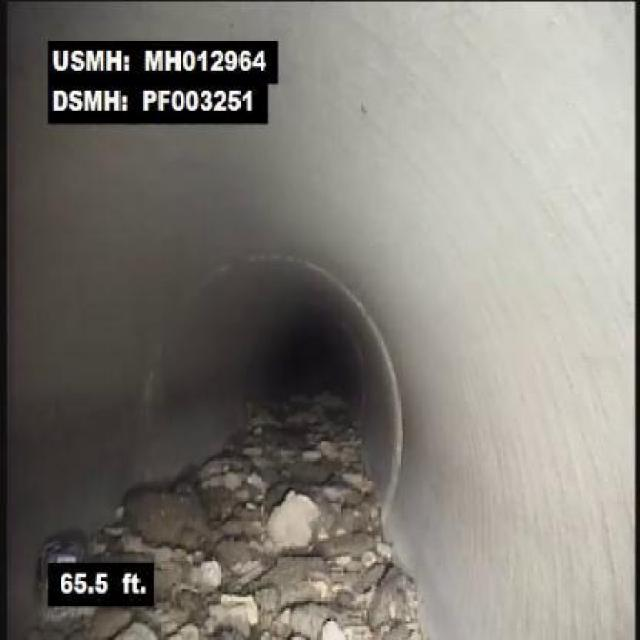Debris: (37, 502, 421, 636), (118, 440, 377, 497)
